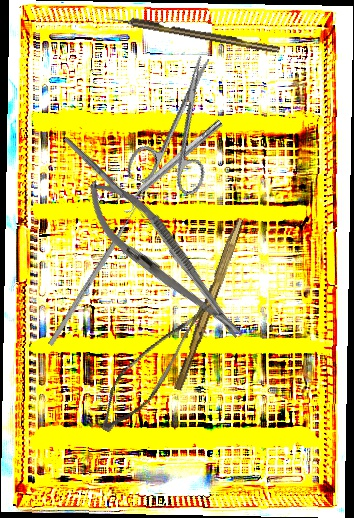Fixation Ring: (114, 114, 228, 216)
Hook Surgical: (104, 12, 281, 55)
Iris Scissors: (123, 45, 244, 202)
Micro Scissor: (92, 280, 213, 447)
Needle Holder: (71, 165, 258, 355)
Pusher: (47, 197, 145, 347)
Scalpel Handle: (172, 216, 245, 393)
Surgical Spoon: (62, 135, 149, 220)
